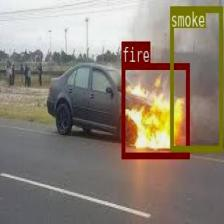fire: (121, 63, 189, 158)
smoke: (170, 5, 222, 150)
